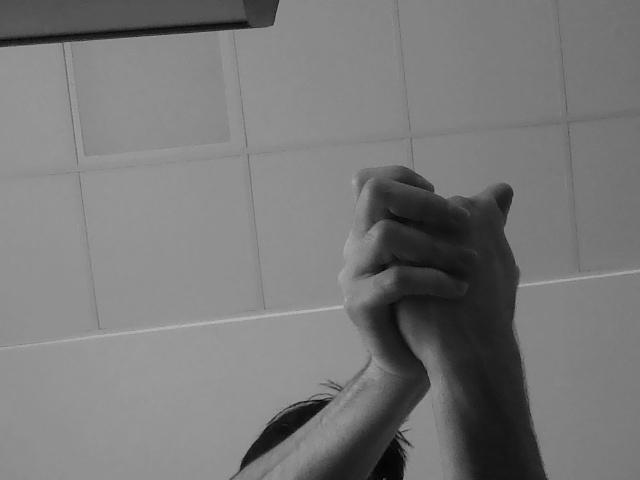friend: (325, 146, 536, 379)
